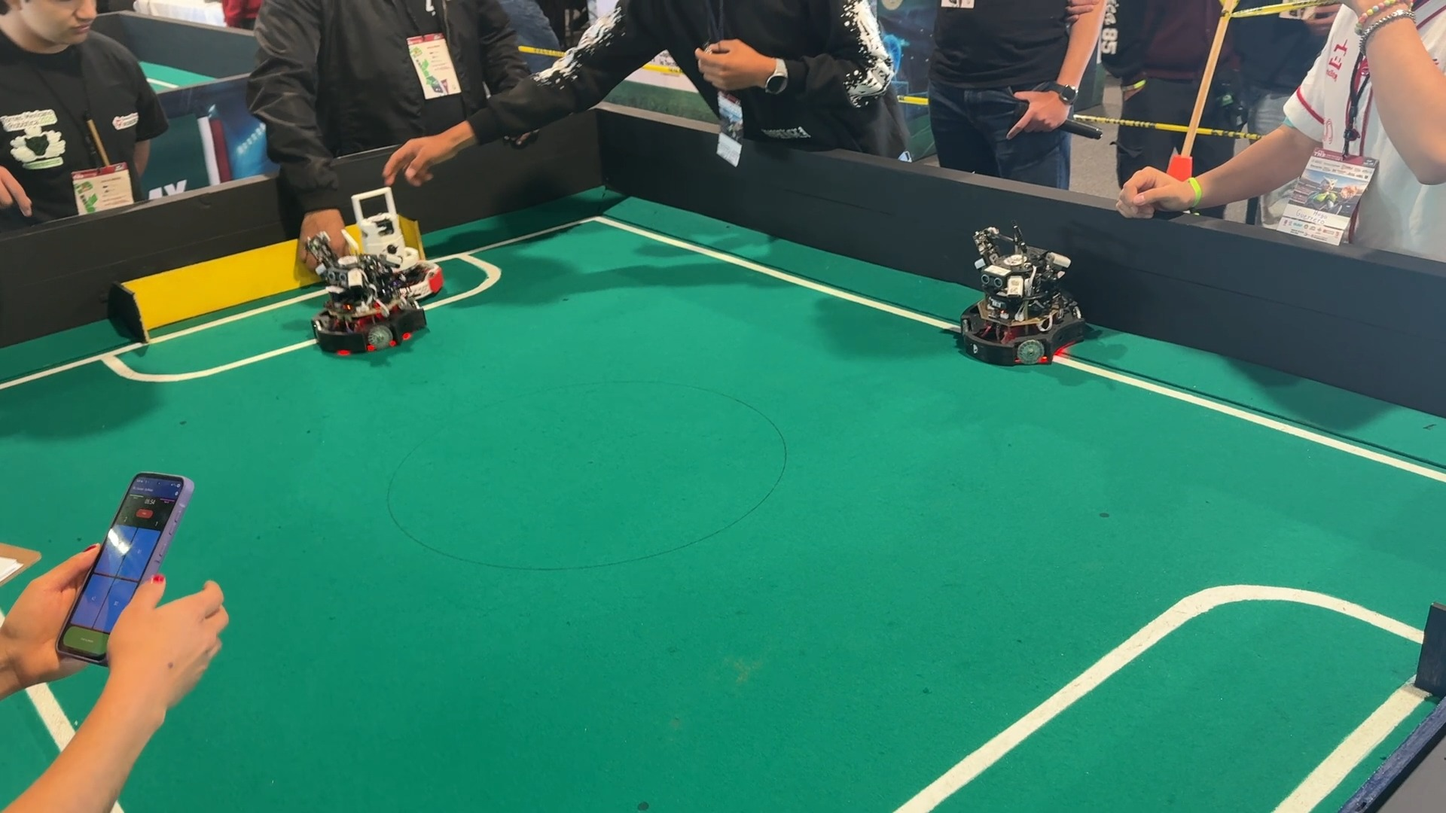Robot: (920, 218, 1106, 383), (299, 238, 413, 375), (351, 191, 441, 302)
